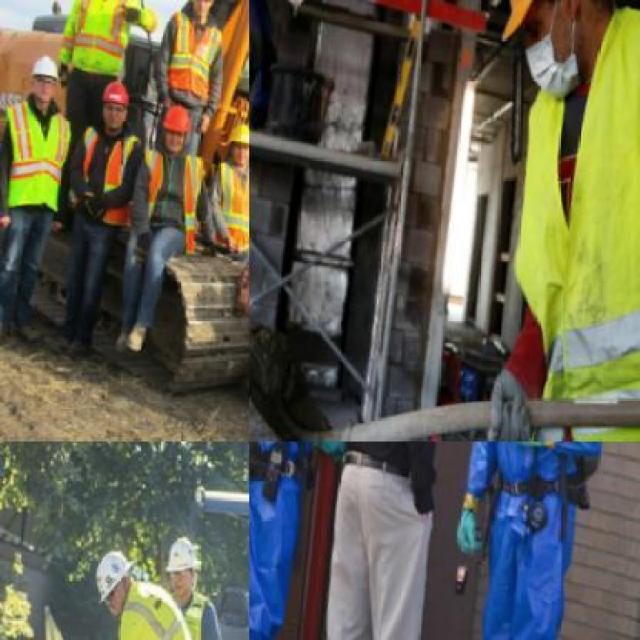vest: (456, 0, 638, 440), (445, 442, 623, 522), (64, 117, 144, 229), (0, 97, 77, 212), (123, 142, 205, 249), (102, 576, 220, 638), (249, 442, 354, 506), (155, 14, 228, 103), (65, 0, 137, 82), (200, 151, 248, 252), (152, 580, 222, 638)
